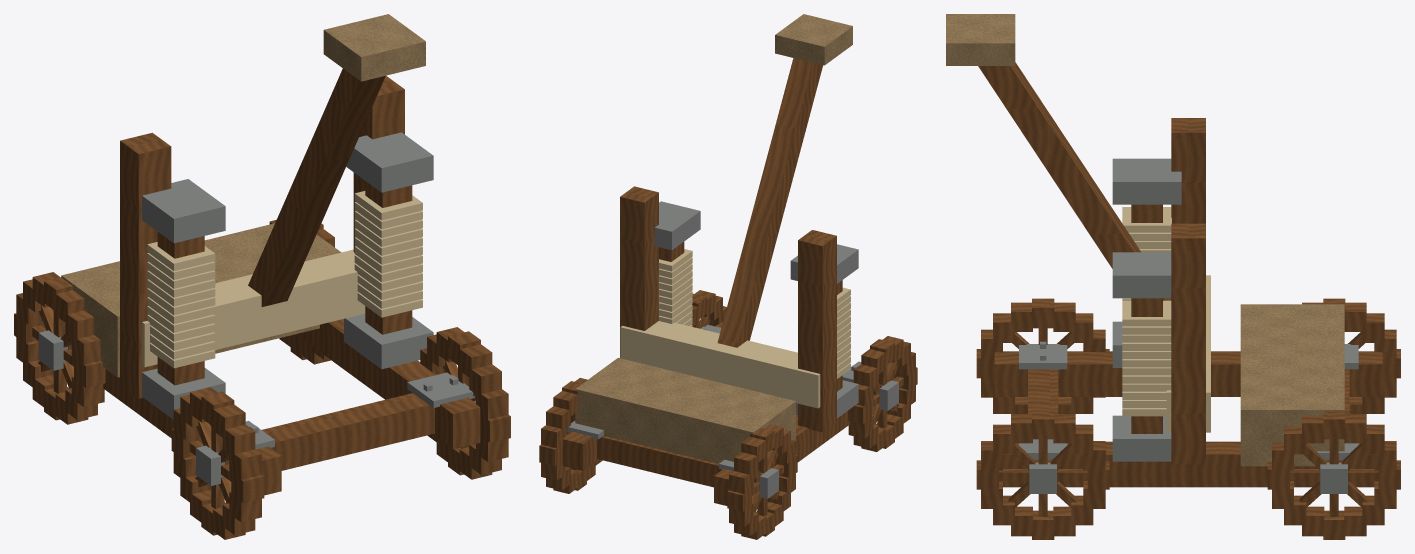
The picture shows the model from 3 angles, left to right: view 1: azimuth 30°, elevation 25°; view 2: azimuth 150°, elevation 25°; view 3: azimuth 270°, elevation 25°; orthographic projection. The views are drawn at different scales.
Size of the model in its own units: 212 by 359 by 328.
4 materials, 2 textured.
